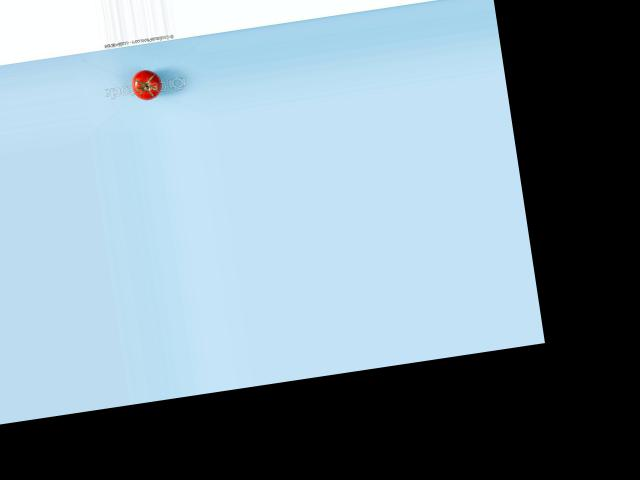tomato: (129, 67, 162, 101)
